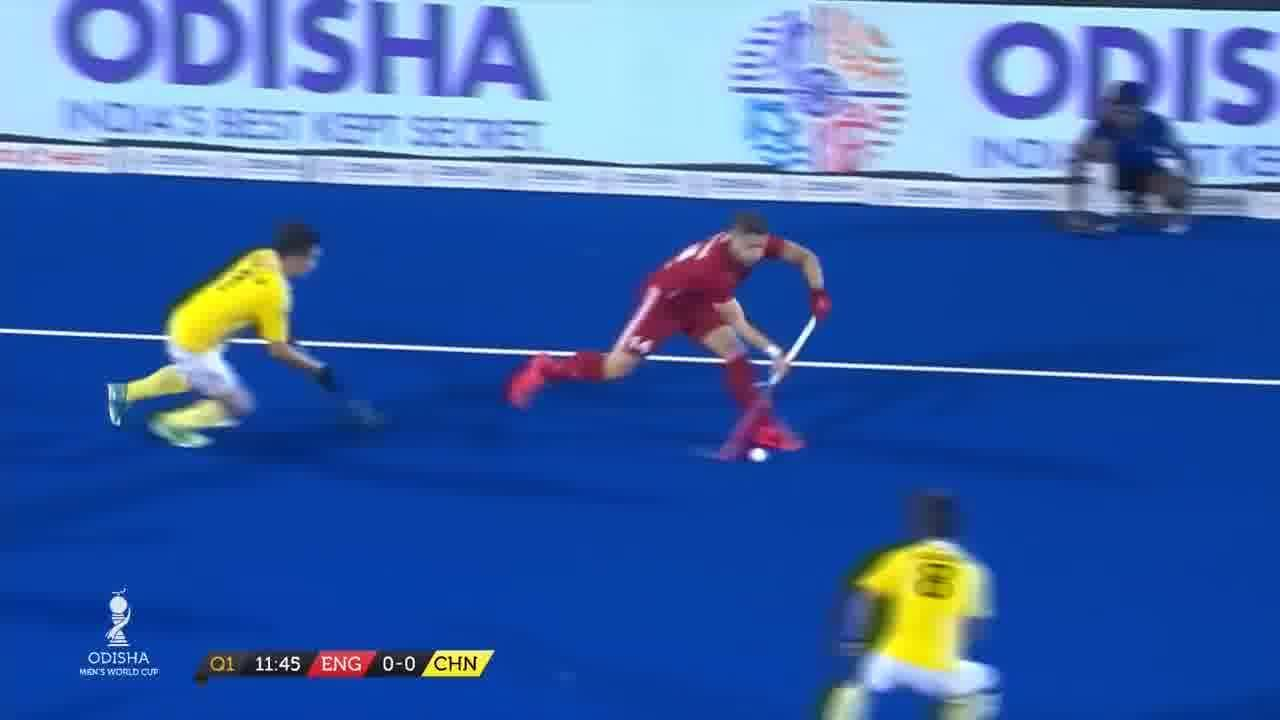ball: (744, 434, 774, 470)
